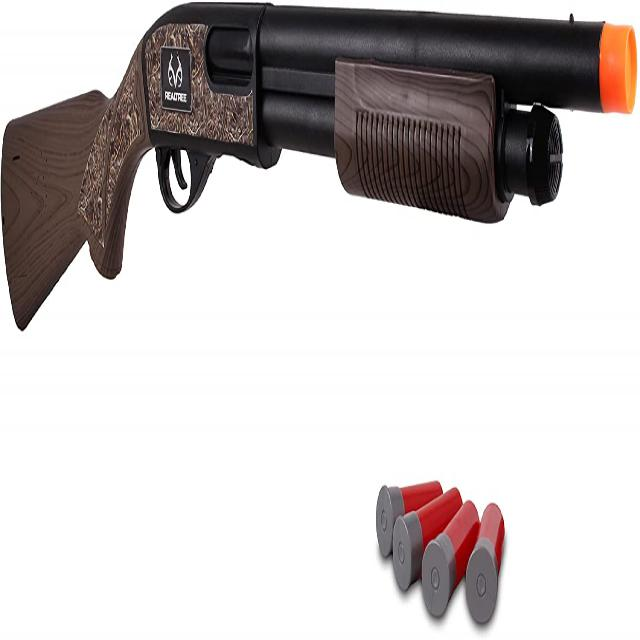long weapon: (10, 15, 640, 361)
